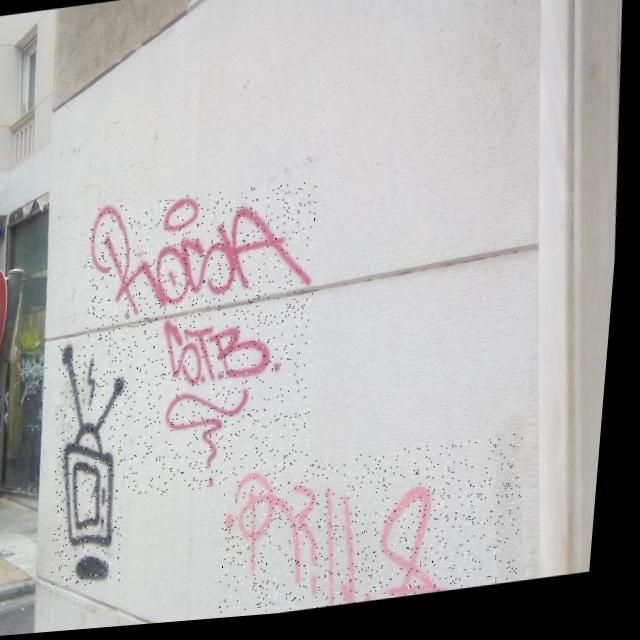-: (74, 183, 336, 510), (221, 442, 538, 624), (48, 337, 146, 592), (20, 356, 57, 406)
